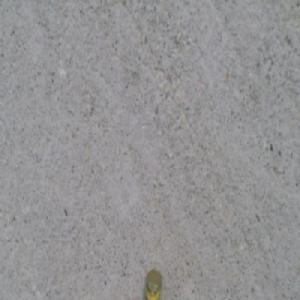BoltNutSet: (144, 269, 162, 299)
